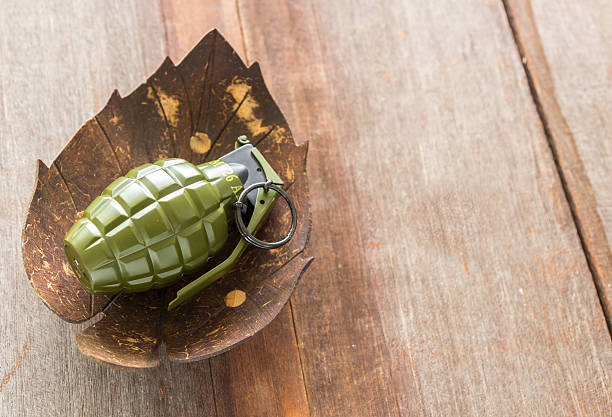e1: (66, 143, 295, 301)
